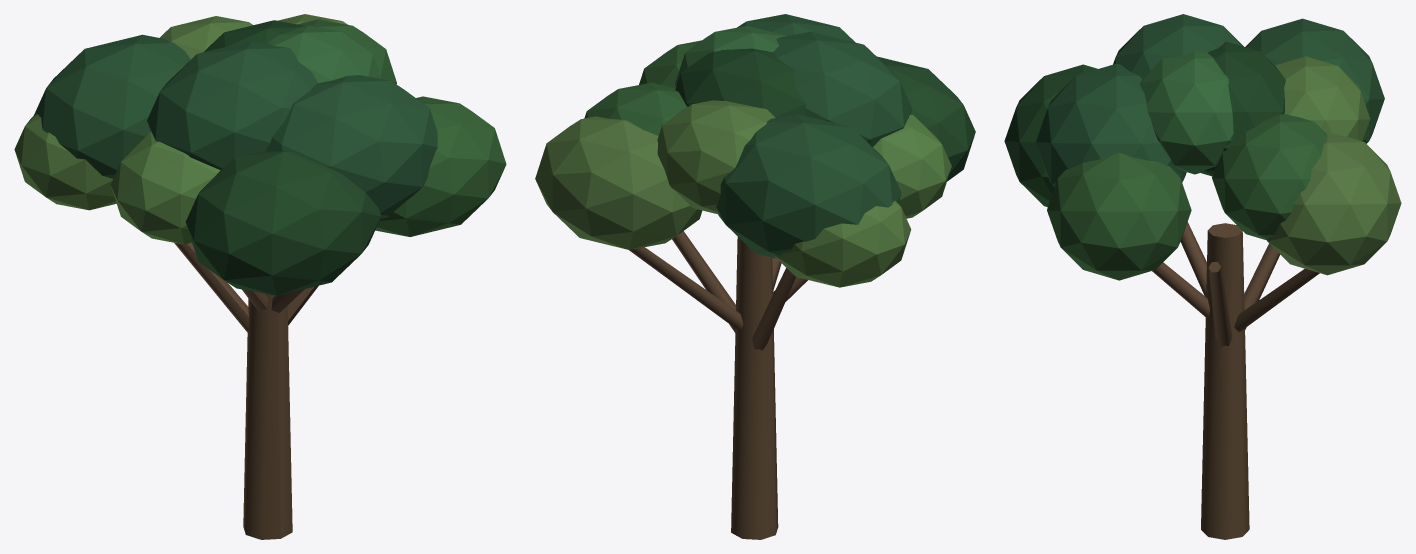
Rendered from broadleaf-spreading.mid.glb.
3 renders of one model, left to right at view 1: azimuth 30°, elevation 25°; view 2: azimuth 150°, elevation 25°; view 3: azimuth 270°, elevation 25°, orthographic. The views are drawn at different scales.
Visible parts, largest first — view 1: foliage, wood; view 2: foliage, wood; view 3: foliage, wood.
Part boxes in pixels (x1,y1,x2,y2): foliage: (14, 14, 506, 295); wood: (174, 243, 318, 539); foliage: (535, 14, 975, 287); wood: (629, 231, 807, 539); foliage: (1004, 14, 1401, 280); wood: (1152, 222, 1319, 539).
Size of the model in its own units: 9.34 by 12 by 8.94.
